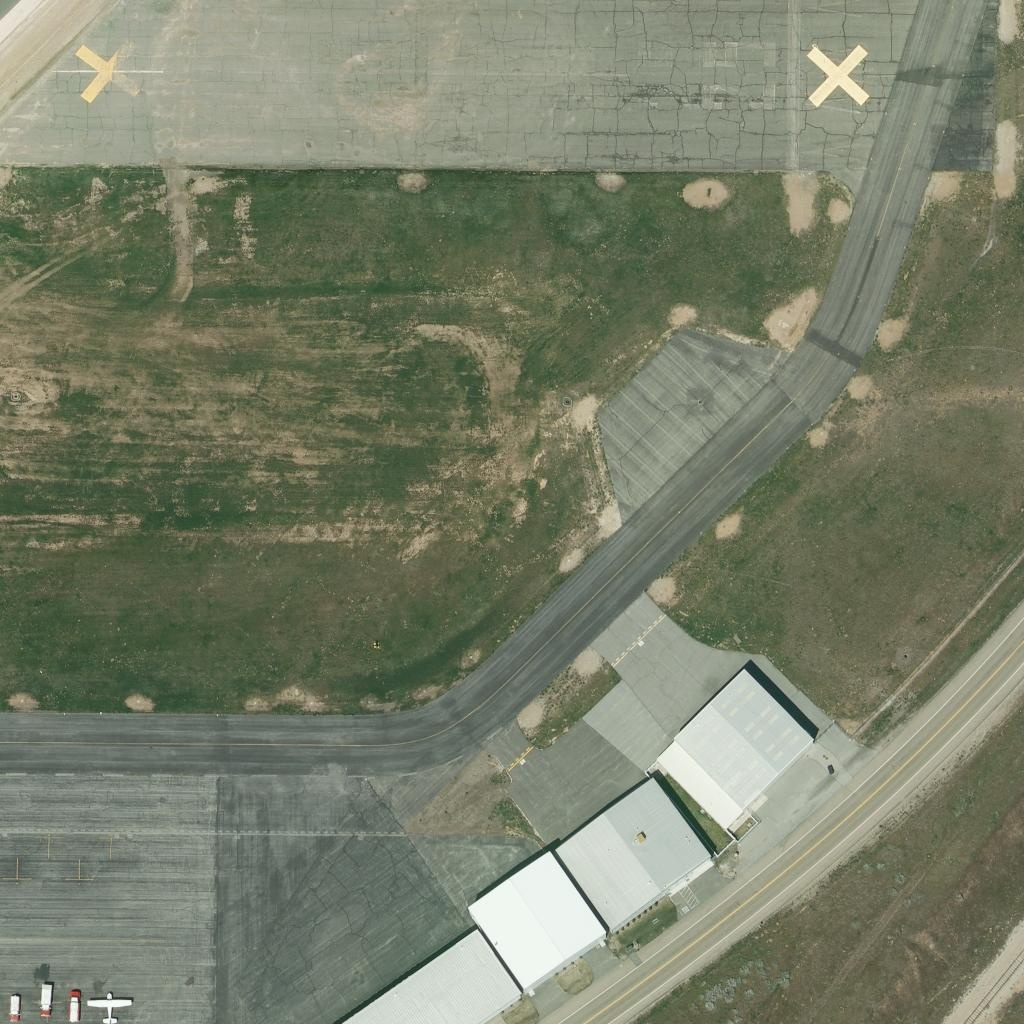plane: (87, 990, 135, 1023)
